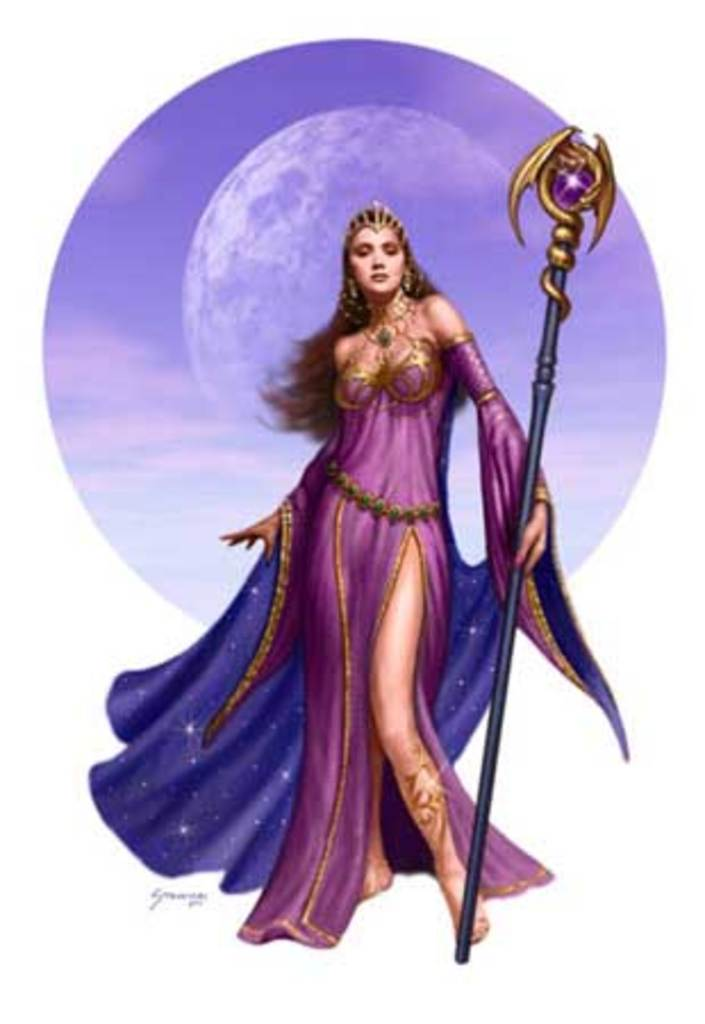Person: (84, 198, 634, 948)
